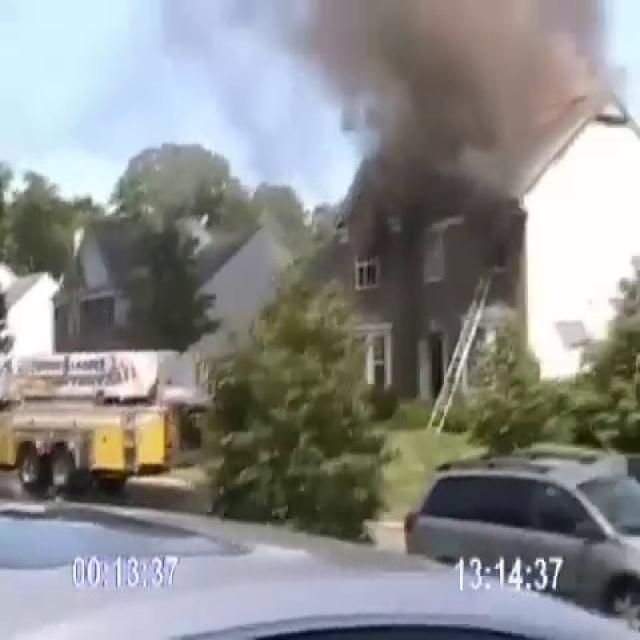Smoke: (303, 0, 639, 203)
